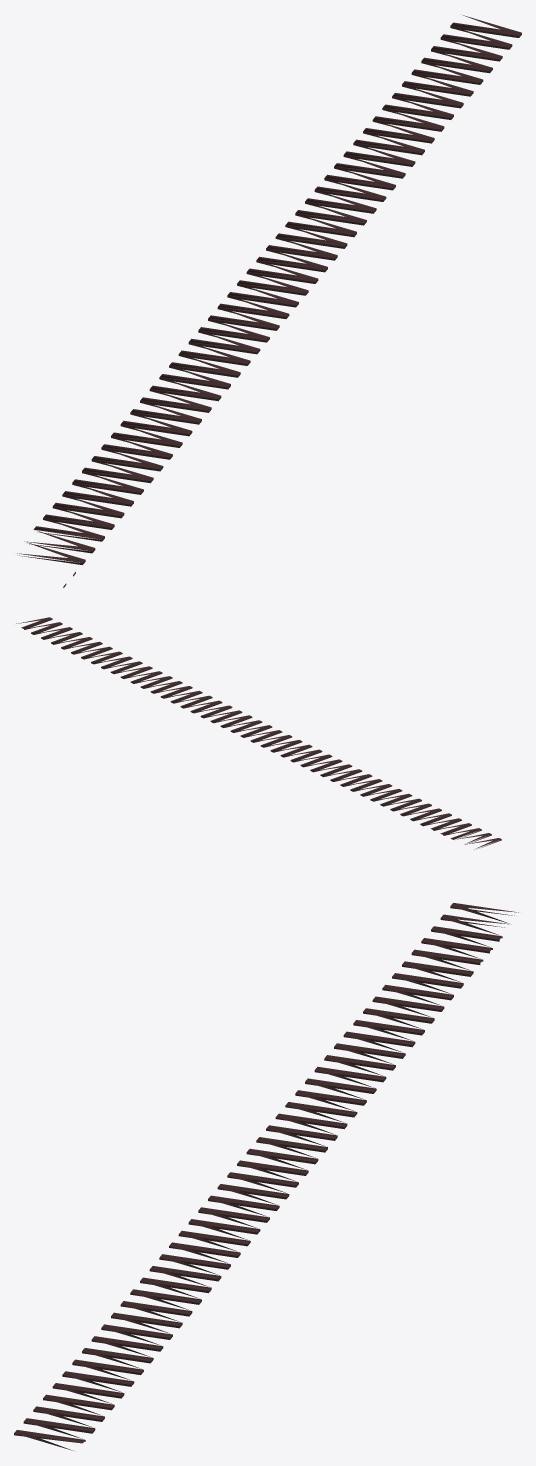
The picture shows the model from 3 angles, top to bottom: view 1: azimuth 90°, elevation 25°; view 2: azimuth 150°, elevation 25°; view 3: azimuth 270°, elevation 25°; orthographic projection. The views are drawn at different scales.
Bounding box in the file's own units: 39.68 × 0.064 × 14.88.
